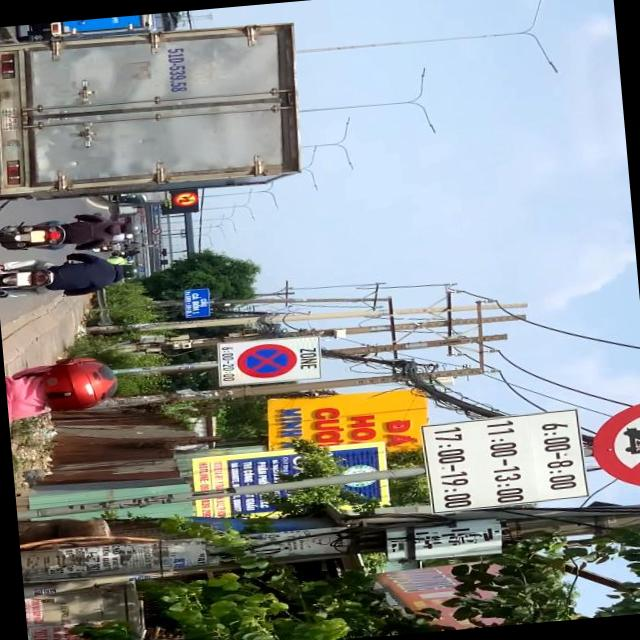P-130: (235, 342, 298, 381)
